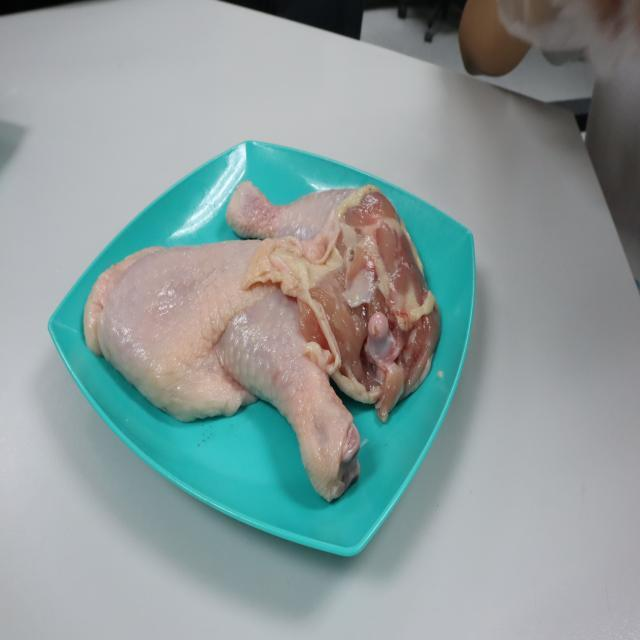quater: (102, 227, 360, 507), (232, 170, 446, 403)
